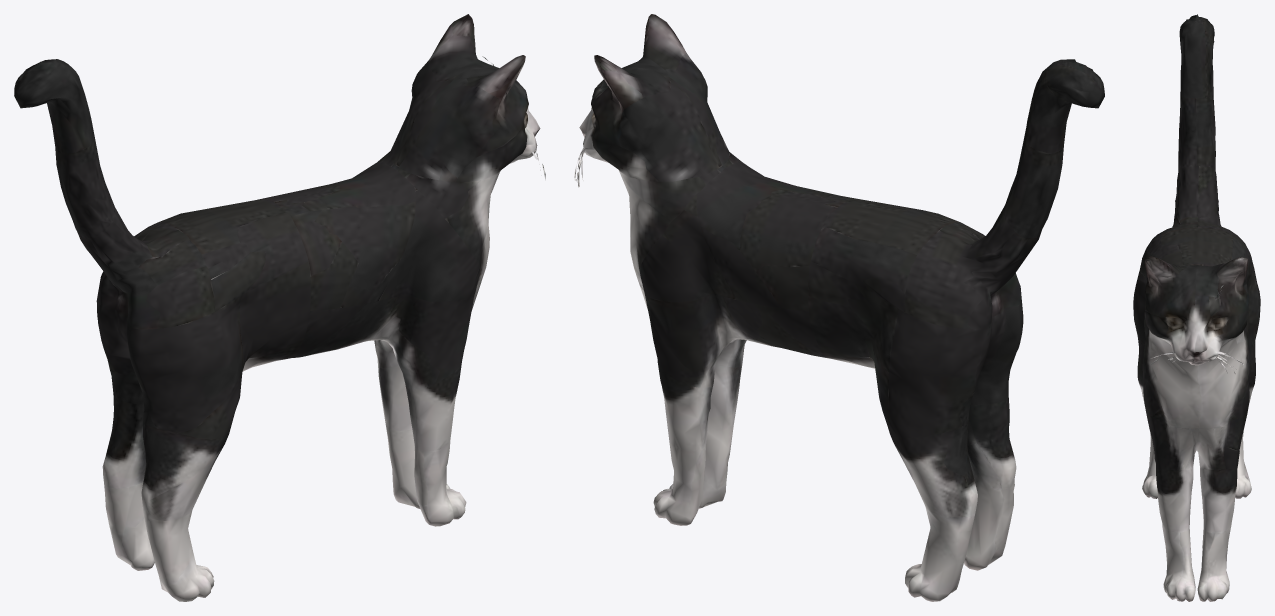
The model's file is OREOCHAN-lo.glb.
The picture shows the model from 3 angles, left to right: view 1: azimuth 30°, elevation 25°; view 2: azimuth 150°, elevation 25°; view 3: azimuth 270°, elevation 25°; orthographic projection. The views are drawn at different scales.
Visible parts, largest first — view 1: tripo_node_5f445046-f006-44f8-b1b7-756341eaa96a; view 2: tripo_node_5f445046-f006-44f8-b1b7-756341eaa96a; view 3: tripo_node_5f445046-f006-44f8-b1b7-756341eaa96a.
Part boxes in pixels (left/top/right/bottom): tripo_node_5f445046-f006-44f8-b1b7-756341eaa96a: left=14, top=14, right=545, bottom=601; tripo_node_5f445046-f006-44f8-b1b7-756341eaa96a: left=574, top=14, right=1104, bottom=601; tripo_node_5f445046-f006-44f8-b1b7-756341eaa96a: left=1133, top=14, right=1260, bottom=601.
Size of the model in its own units: 0.9951 by 0.9995 by 0.2667.
Materials: 1 (1 with a texture image).
